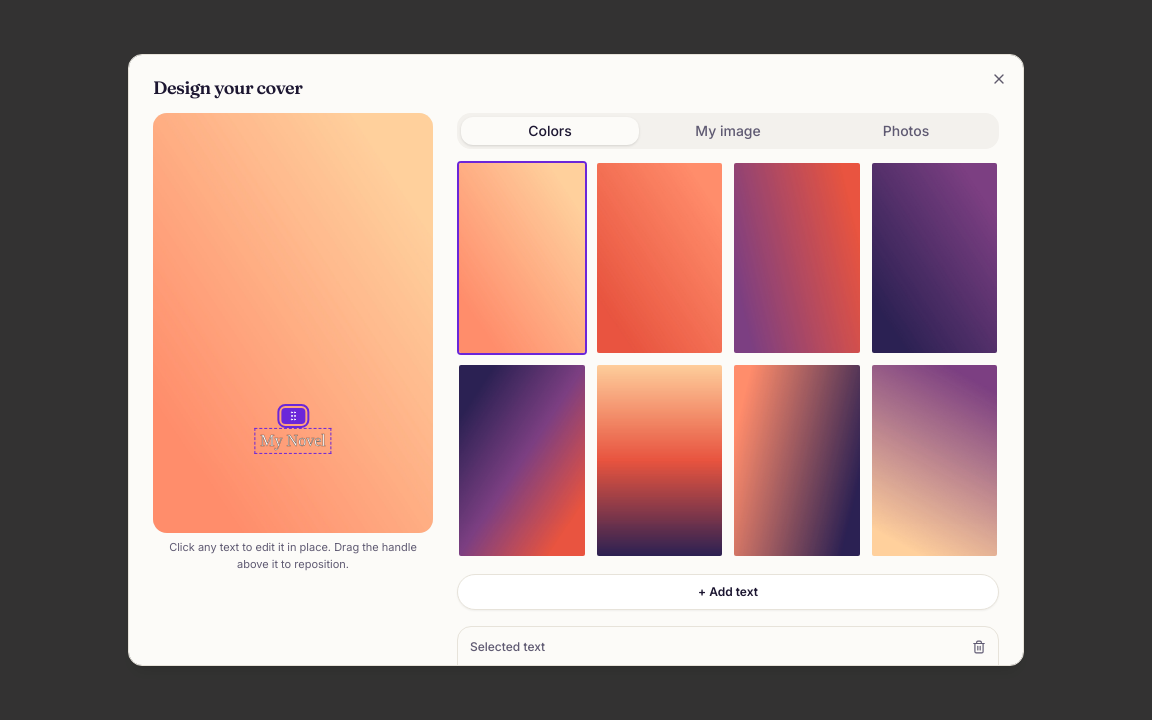
it: CoverDesignerDialog › adds a new text layer directly onto the canvas
Click the button "+ Add text": (728, 592) x1=457 y1=574 x2=999 y2=610
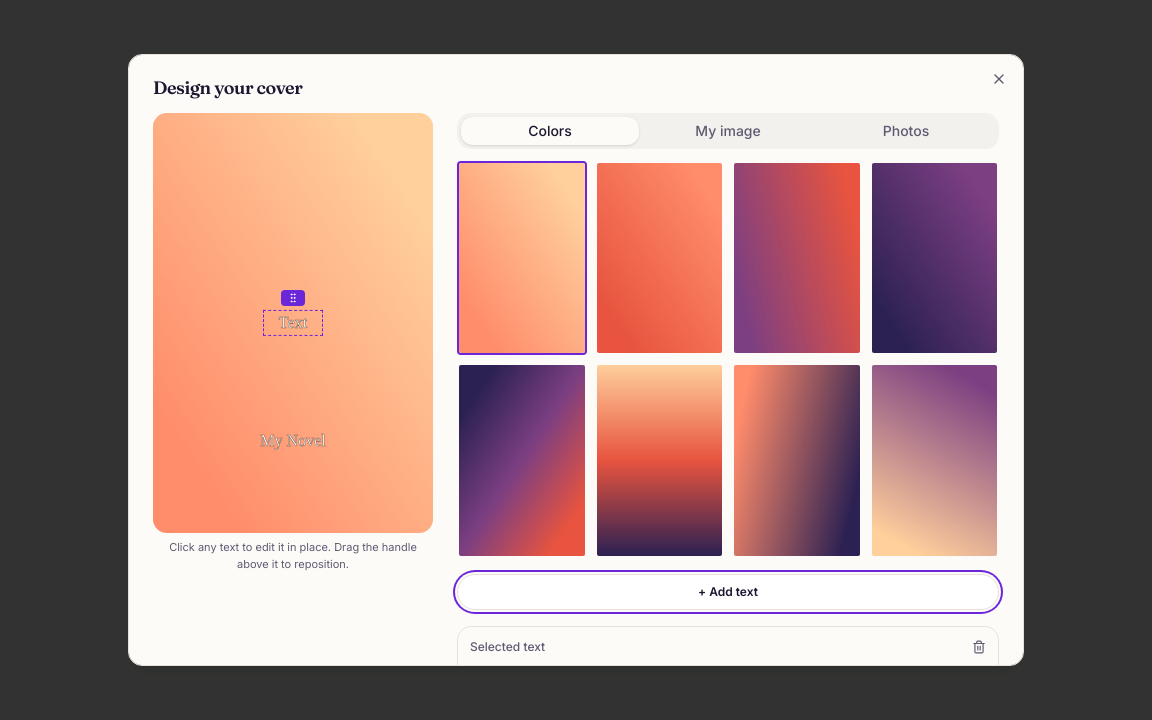
Expected: the 1st field showing "Text" is shown, x1=263 y1=310 x2=323 y2=336
